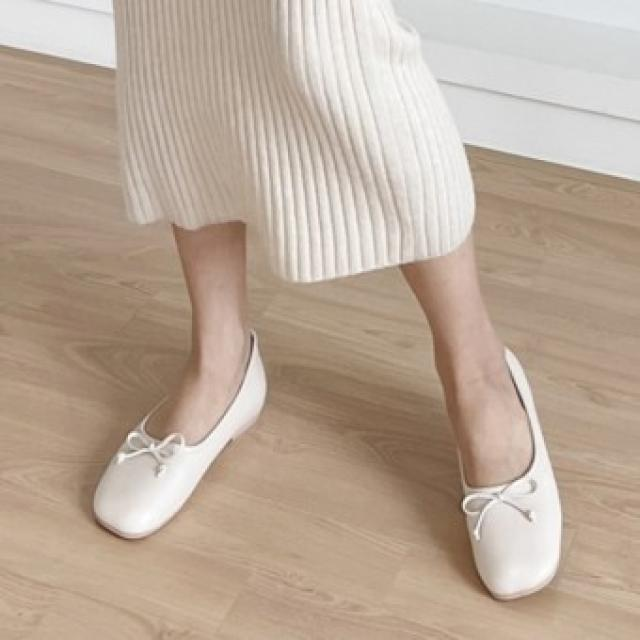no-boots: (414, 314, 587, 614), (87, 330, 266, 554)
